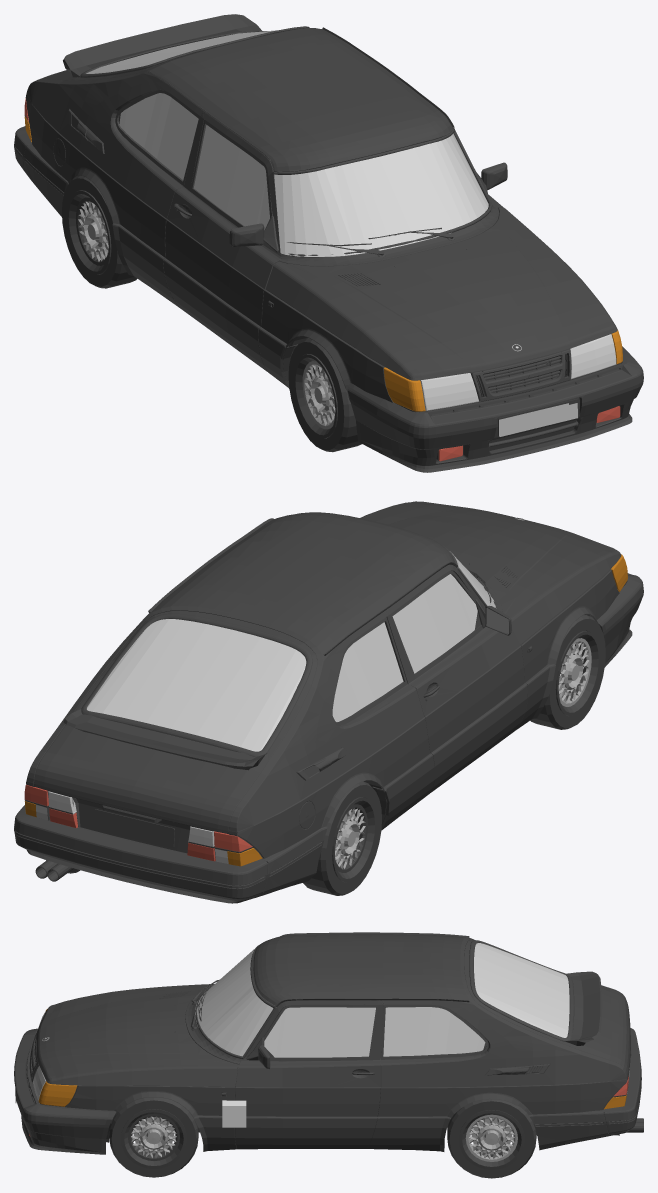
Rendered from Saab.fbx.
3 views of the same model, one above another, from view 1: azimuth 30°, elevation 25°; view 2: azimuth 150°, elevation 25°; view 3: azimuth 270°, elevation 25° (orthographic). The views are drawn at different scales.
Visible parts, largest first — view 1: saab, Door; view 2: saab; view 3: saab, Door, Hinge.
Boxes of the visible parts, left/top/right/bottom form: saab: left=14, top=14, right=643, bottom=472; Door: left=476, top=162, right=507, bottom=208; saab: left=14, top=501, right=643, bottom=903; saab: left=14, top=932, right=643, bottom=1178; Door: left=234, top=1000, right=383, bottom=1149; Hinge: left=222, top=1100, right=246, bottom=1127.
Size of the model in its own units: 339 by 267 by 874.
